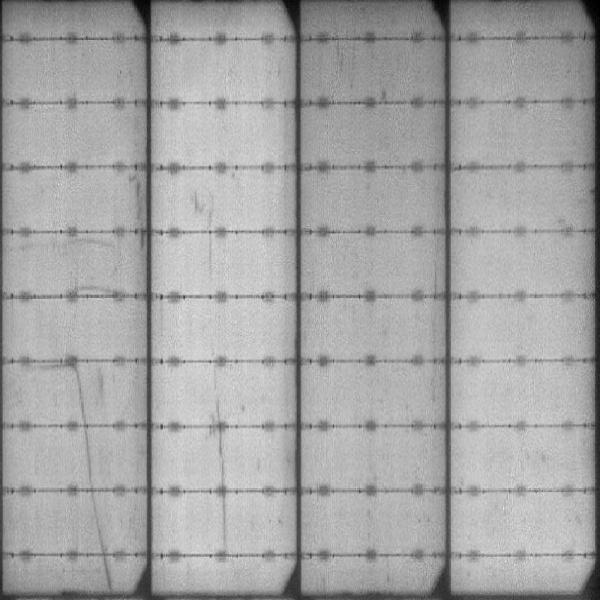scratch: (88, 494, 108, 553), (71, 364, 88, 423), (190, 185, 216, 223), (214, 430, 229, 491), (81, 428, 95, 491), (218, 497, 233, 555), (97, 560, 120, 597), (202, 234, 221, 275), (75, 238, 120, 251)
